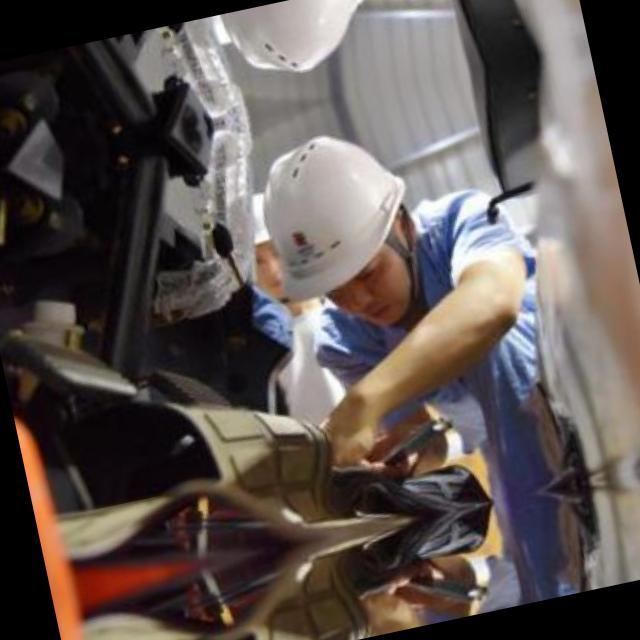helmet: (218, 103, 438, 340), (192, 0, 390, 109)
